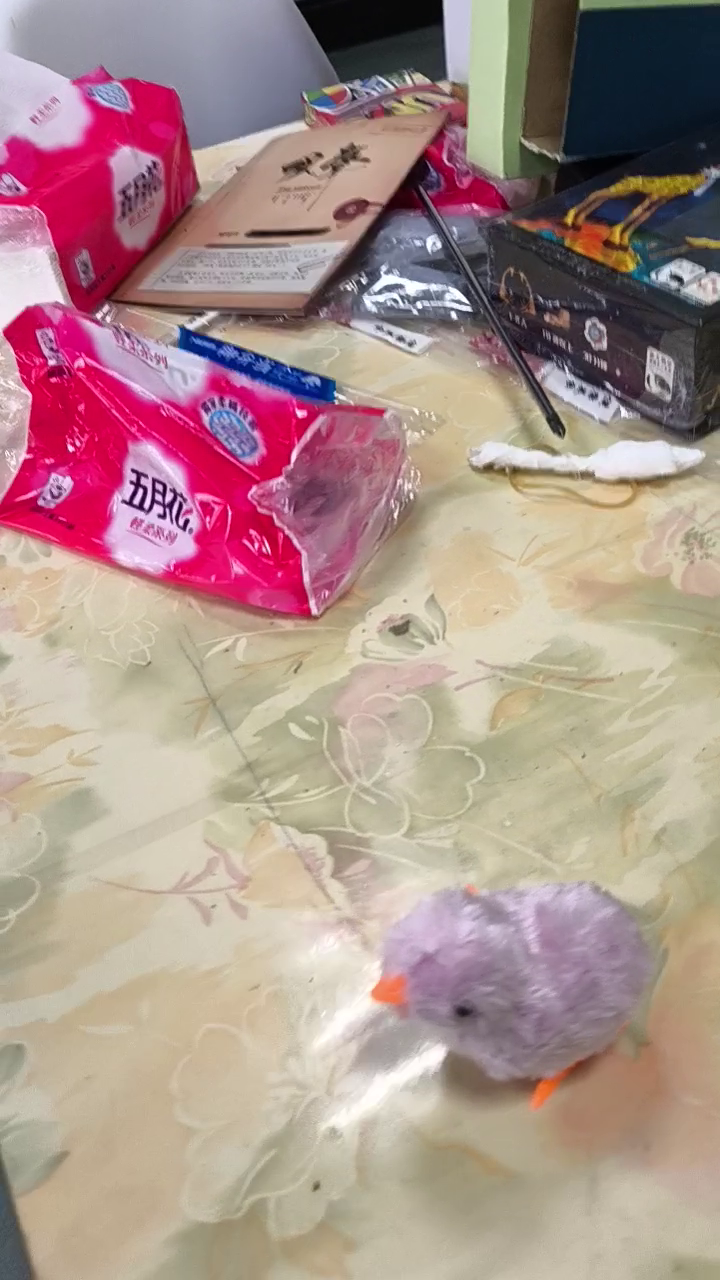pink chicken: (366, 875, 660, 1114)
